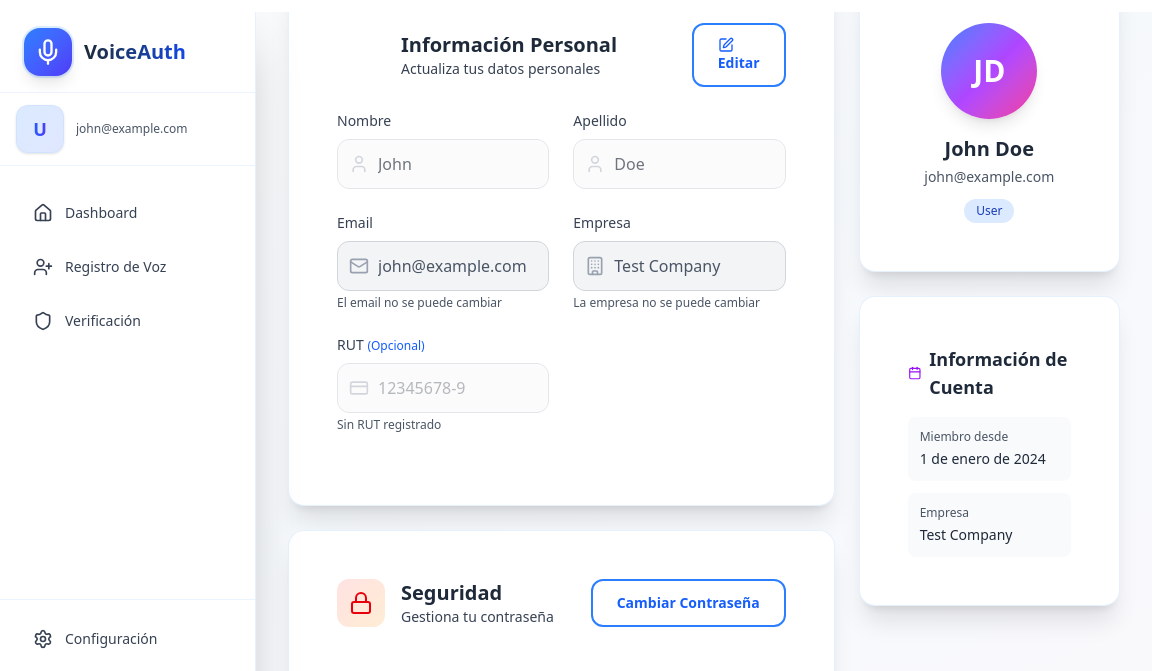
Test: ProfilePage › shows password strength indicator
(page scrolled)
Click the button "Cambiar Contraseña": click(688, 603) [591,579,786,627]
(page scrolled)
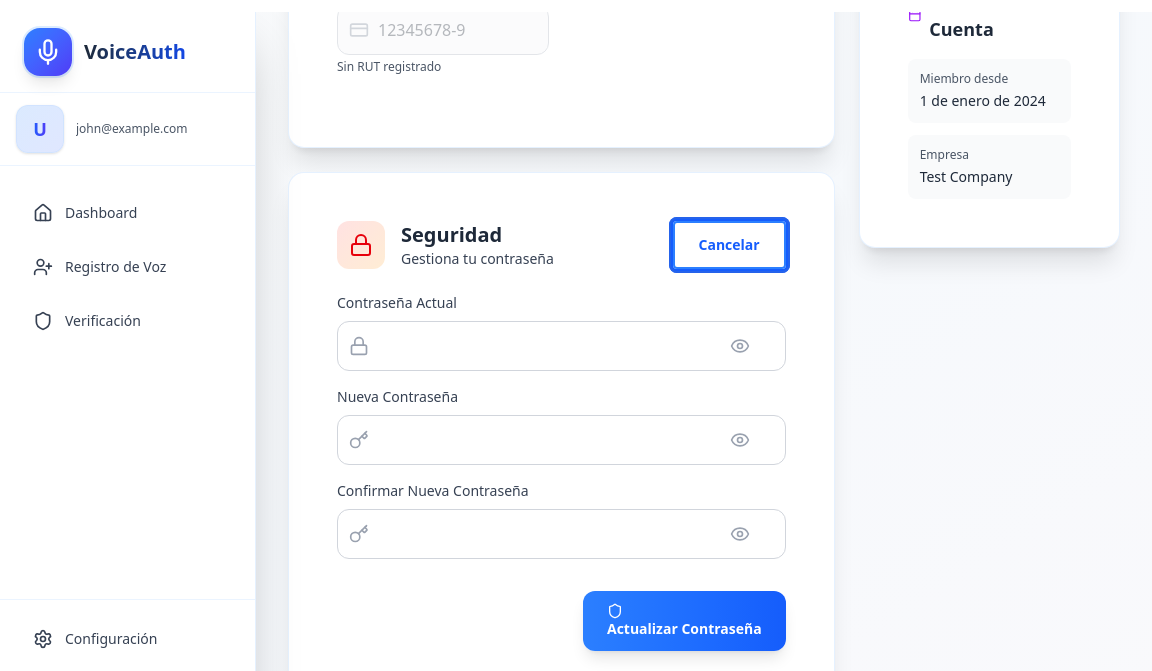
In the 2nd password field named "newPassword": (561, 440) [337,415,786,465], type "weak"
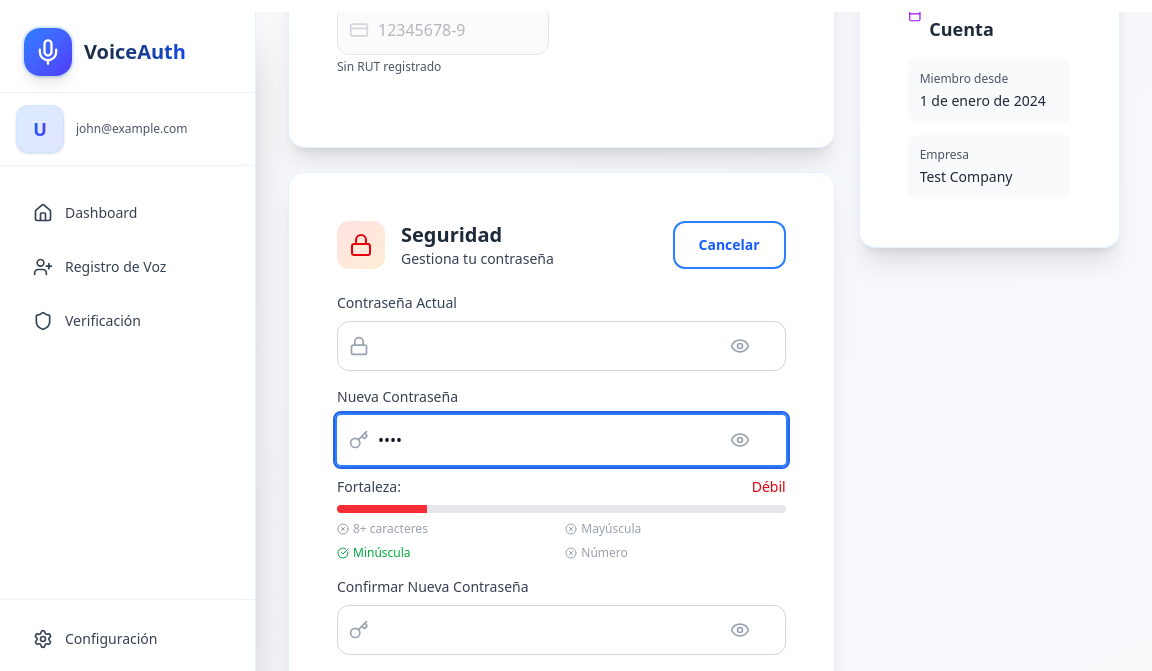
Expected: the text "Débil" is shown, [752,477,786,497]
In the 2nd password field named "newPassword": (561, 440) [337,415,786,465], type "Strong@Pass123"
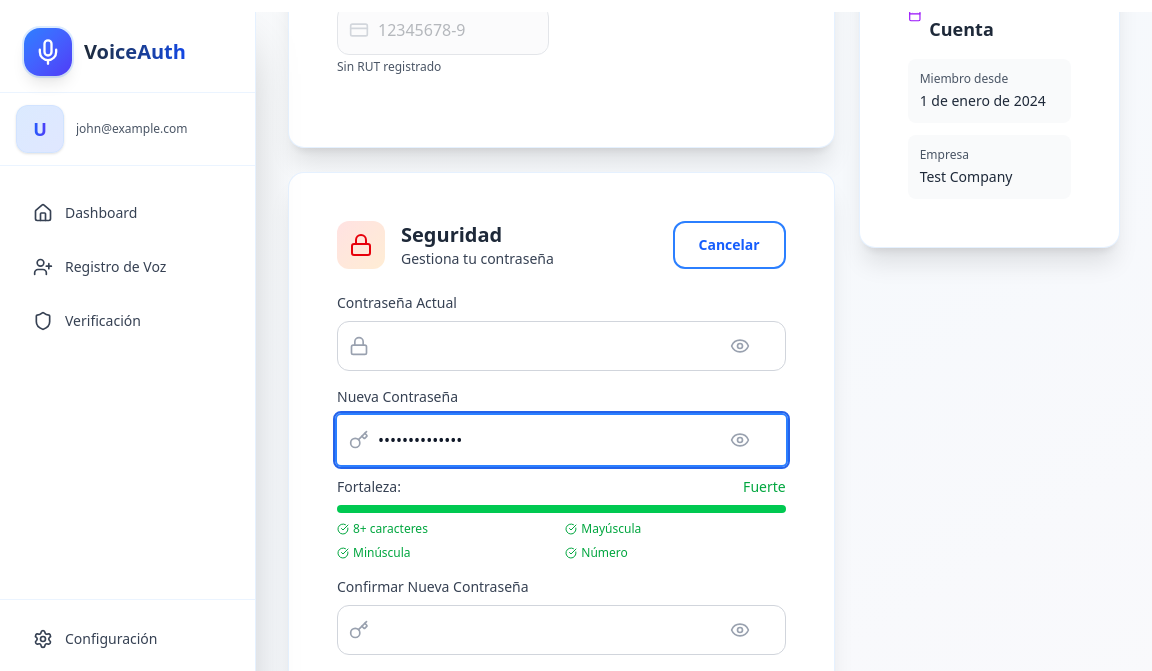
Expected: the text "Fuerte" is shown, [743,477,786,497]
